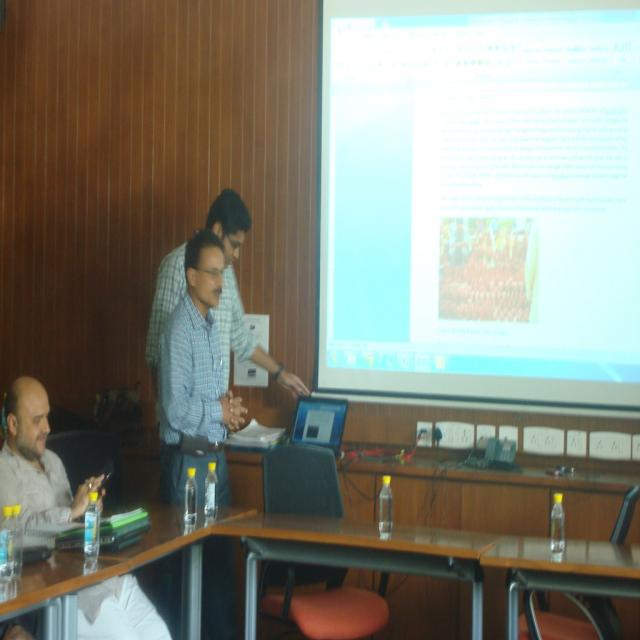chair: (609, 484, 639, 544)
desk: (56, 422, 626, 632)
laptop: (289, 395, 348, 460)
person: (148, 194, 311, 502), (0, 375, 116, 535)
tv: (314, 5, 636, 412)
